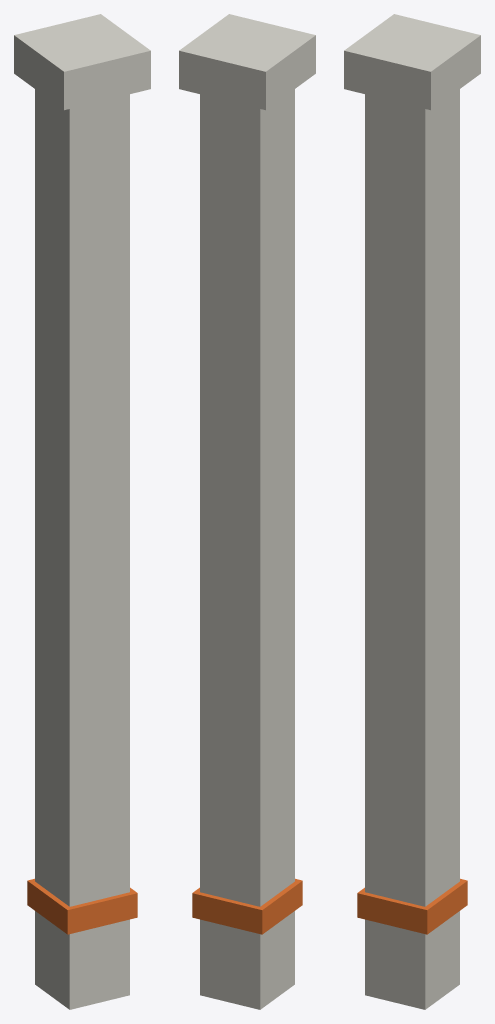
The model's file is picket-fence-post-end.glb.
3 renders of one model, left to right at view 1: azimuth 30°, elevation 25°; view 2: azimuth 150°, elevation 25°; view 3: azimuth 330°, elevation 25°, orthographic.
Visible parts, largest first — view 1: Post_Shaft, Post_Cap, End_Band; view 2: Post_Shaft, Post_Cap, End_Band; view 3: Post_Shaft, Post_Cap, End_Band.
Part boxes in pixels (x1,y1,x2,y2): Post_Shaft: [35, 89, 129, 1009]; Post_Cap: [14, 14, 150, 110]; End_Band: [27, 878, 137, 934]; Post_Shaft: [200, 89, 294, 1009]; Post_Cap: [179, 14, 315, 110]; End_Band: [192, 878, 302, 934]; Post_Shaft: [365, 89, 459, 1009]; Post_Cap: [344, 14, 480, 110]; End_Band: [357, 878, 467, 934].
Size of the model in its own units: 0.13 by 1.35 by 0.13.
